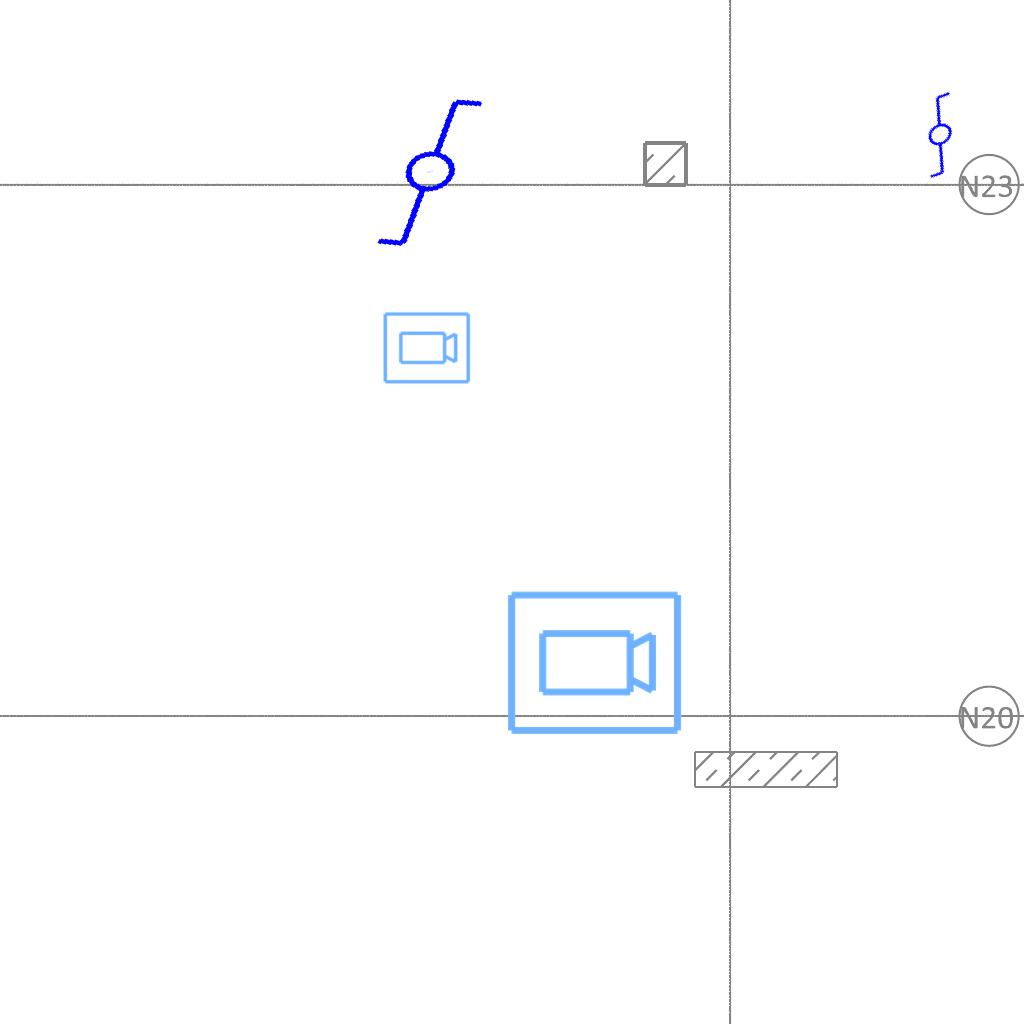KFO_Kamera_mit_Festobjektiv: (503, 587, 685, 741), (381, 310, 472, 387)
Wechselschalter: (346, 85, 531, 259), (891, 80, 997, 186)
